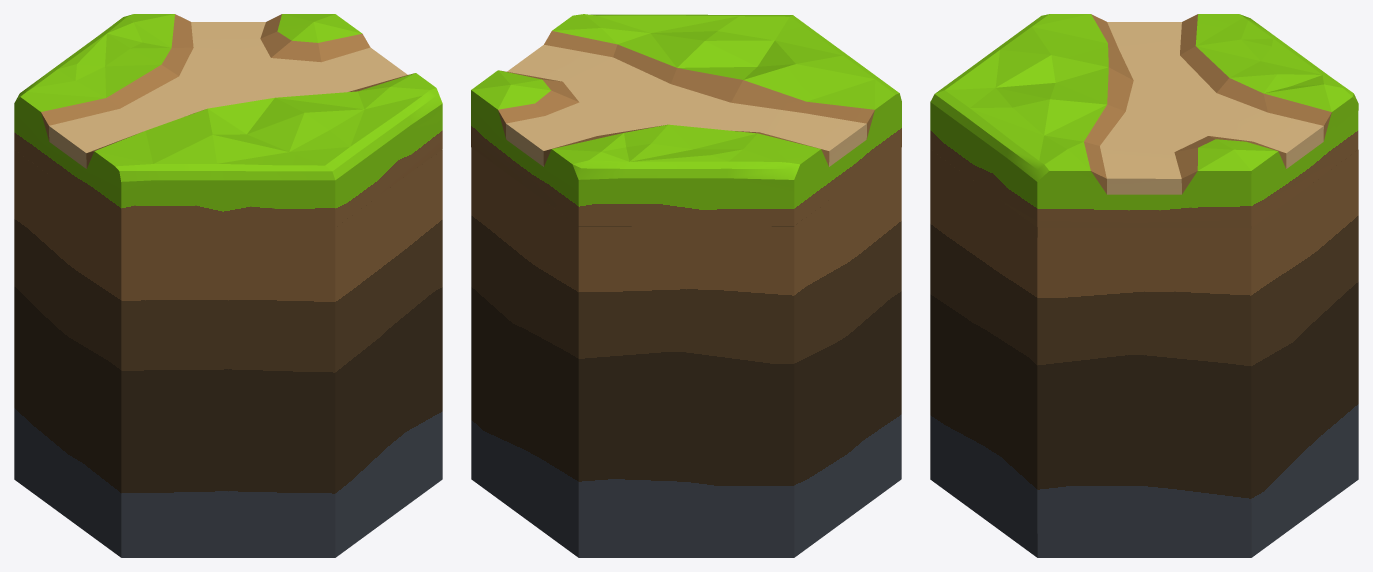
Rendered from HexTilePath_Y1_v2.glb.
3 renders of one model, left to right at view 1: azimuth 30°, elevation 25°; view 2: azimuth 150°, elevation 25°; view 3: azimuth 270°, elevation 25°, orthographic.
Parts seen in each view (by area): view 1: SM_Tile_Hex_Path_05; view 2: SM_Tile_Hex_Path_05; view 3: SM_Tile_Hex_Path_05.
Part boxes in pixels (x1=…): SM_Tile_Hex_Path_05: x1=14, y1=14, x2=442, y2=557; SM_Tile_Hex_Path_05: x1=471, y1=14, x2=901, y2=557; SM_Tile_Hex_Path_05: x1=930, y1=14, x2=1358, y2=557.
Bounding box in the file's own units: 1.73 × 2.03 × 2.
Materials: 1 (1 with a texture image).
